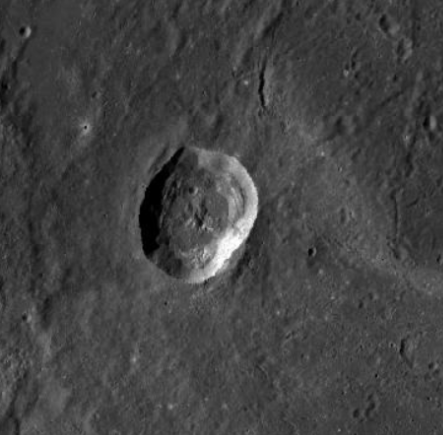crater: (105, 110, 313, 345)
